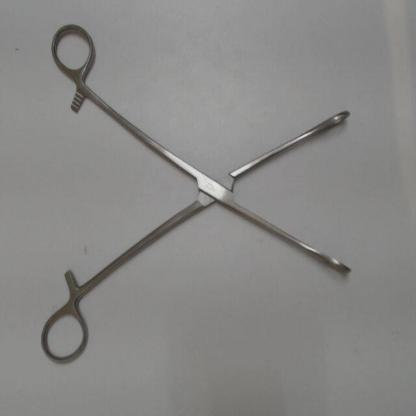Sponge Forceps: (36, 17, 364, 370)
